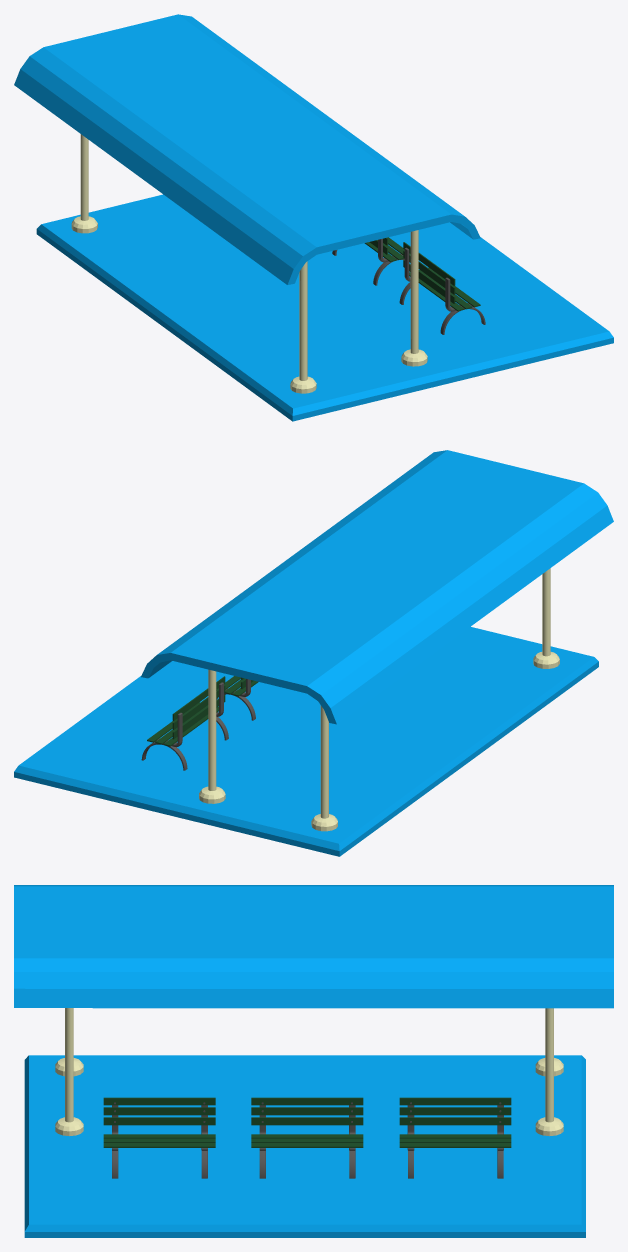
Rendered from station.fbx.
3 views of the same model, one above another, from view 1: azimuth 30°, elevation 25°; view 2: azimuth 150°, elevation 25°; view 3: azimuth 270°, elevation 25° (orthographic). The views are drawn at different scales.
Visible parts, largest first — view 1: station_mesh; view 2: station_mesh; view 3: station_mesh.
Part boxes in pixels (x1,y1,x2,y2): station_mesh: (14, 14, 613, 421); station_mesh: (14, 450, 613, 856); station_mesh: (14, 885, 613, 1237).
Size of the model in its own units: 136 by 68.05 by 195.
